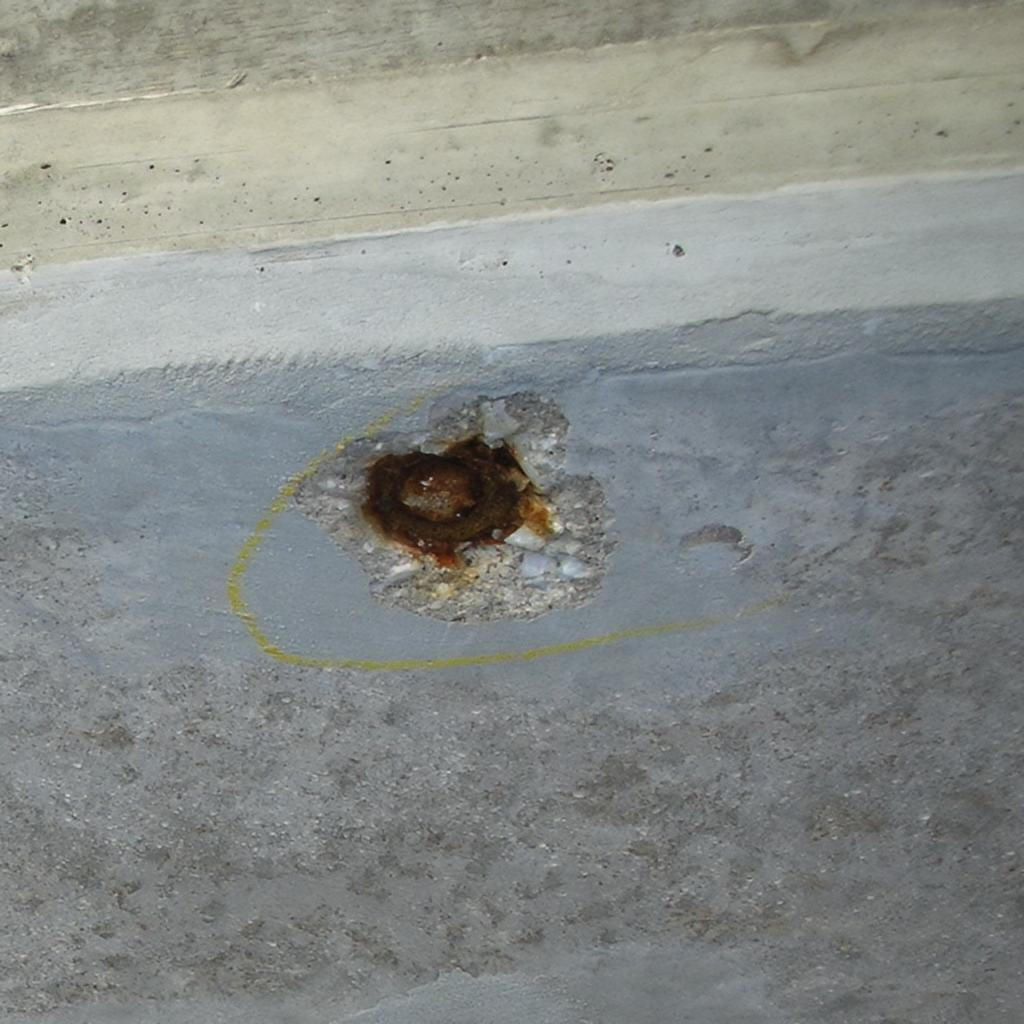exposed_rebar: (362, 436, 552, 566)
spalling: (292, 392, 614, 622)
